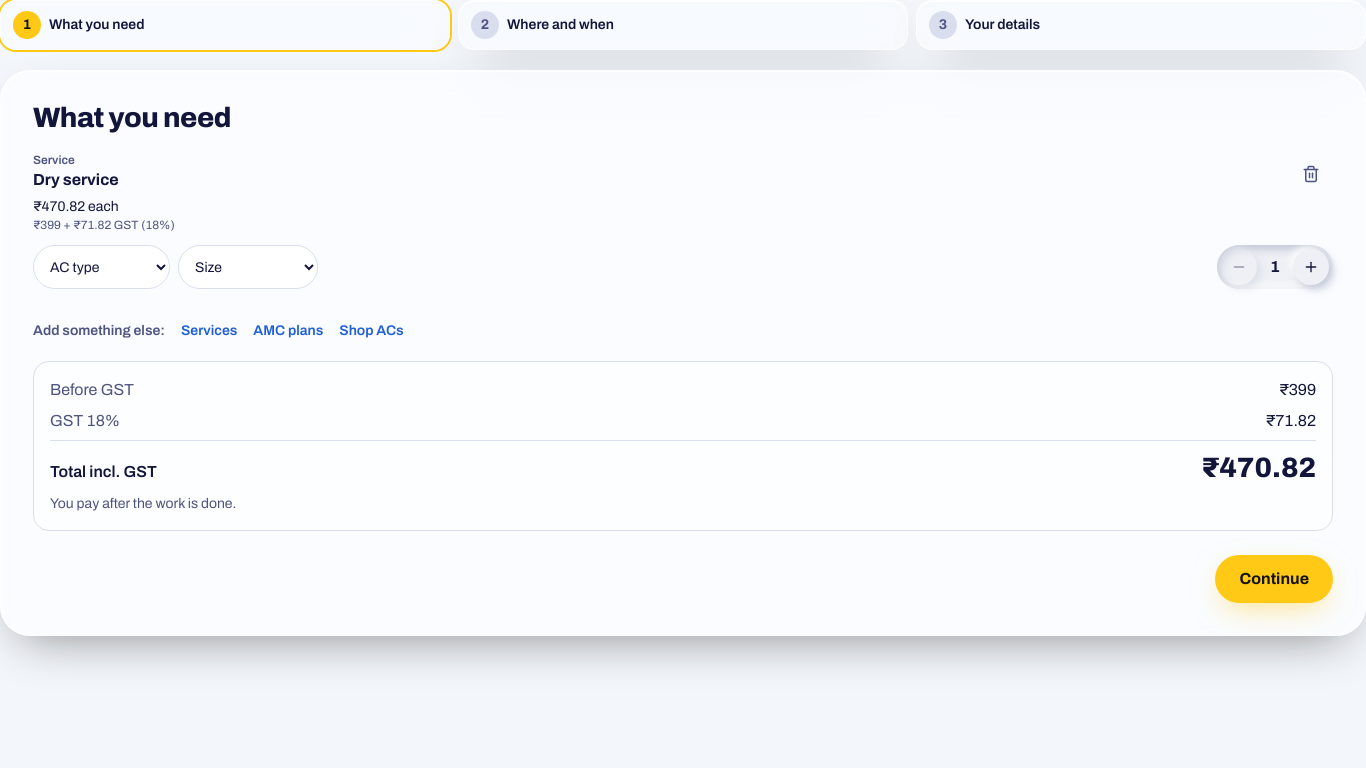
Test case: BookFlow note pre-fill from the customer account (S11b) › keeps the note for this tab, so it survives going to add a service
The width and height of the screenshot is (1366, 768).
Click the button "Continue" at (1274, 579), box [1216,555,1333,603]
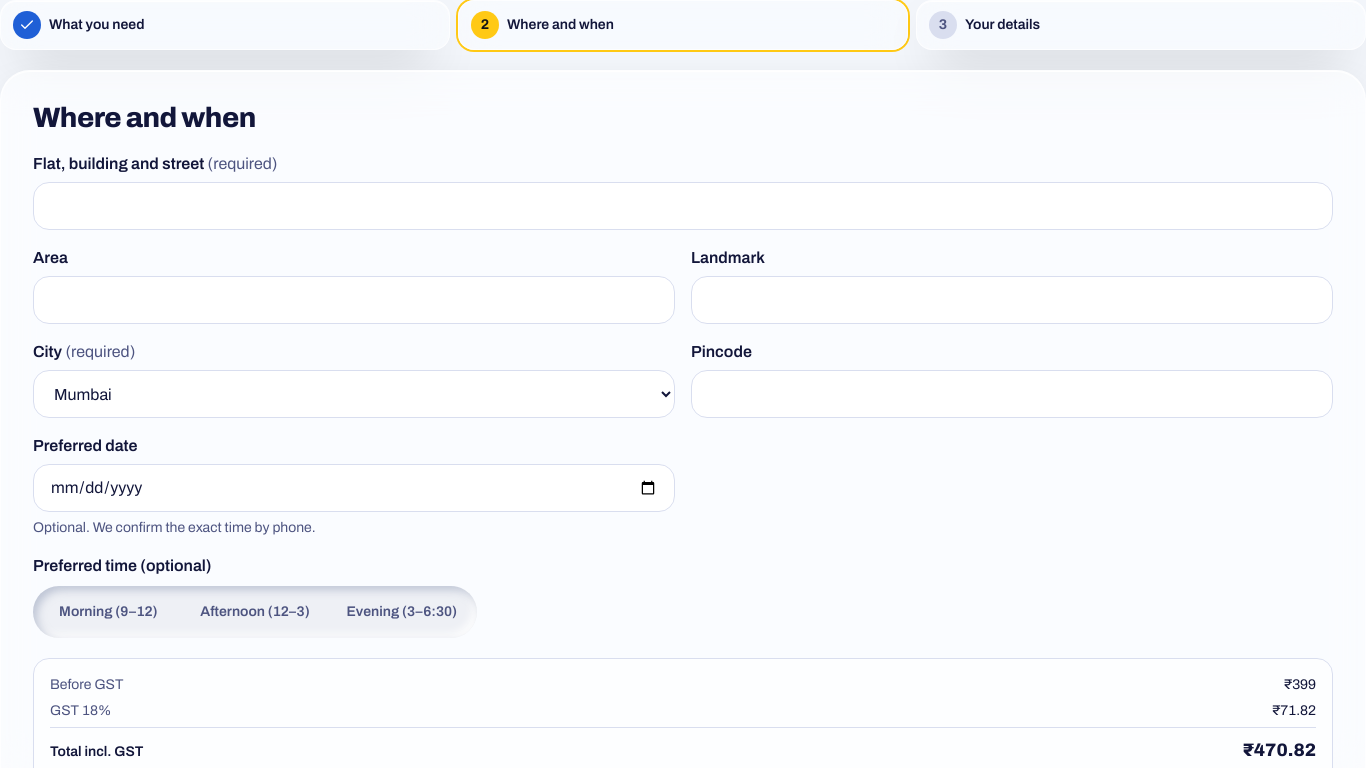
Type "12 Sea View, Chembur" into the field labelled "Flat, building and street (required)" at (683, 206), box [33,182,1333,230]
(page scrolled)
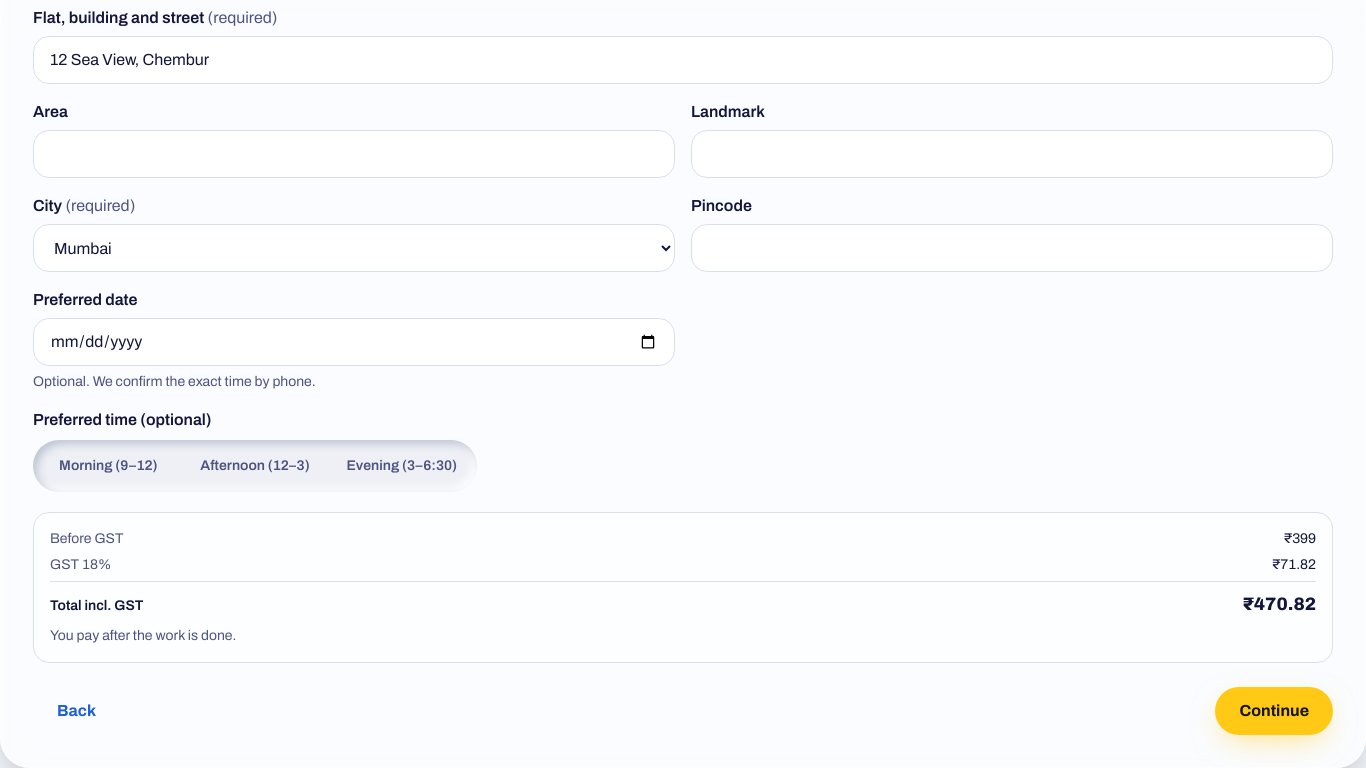
Click the button "Continue" at (1274, 711), box [1216,687,1333,735]
(page scrolled)
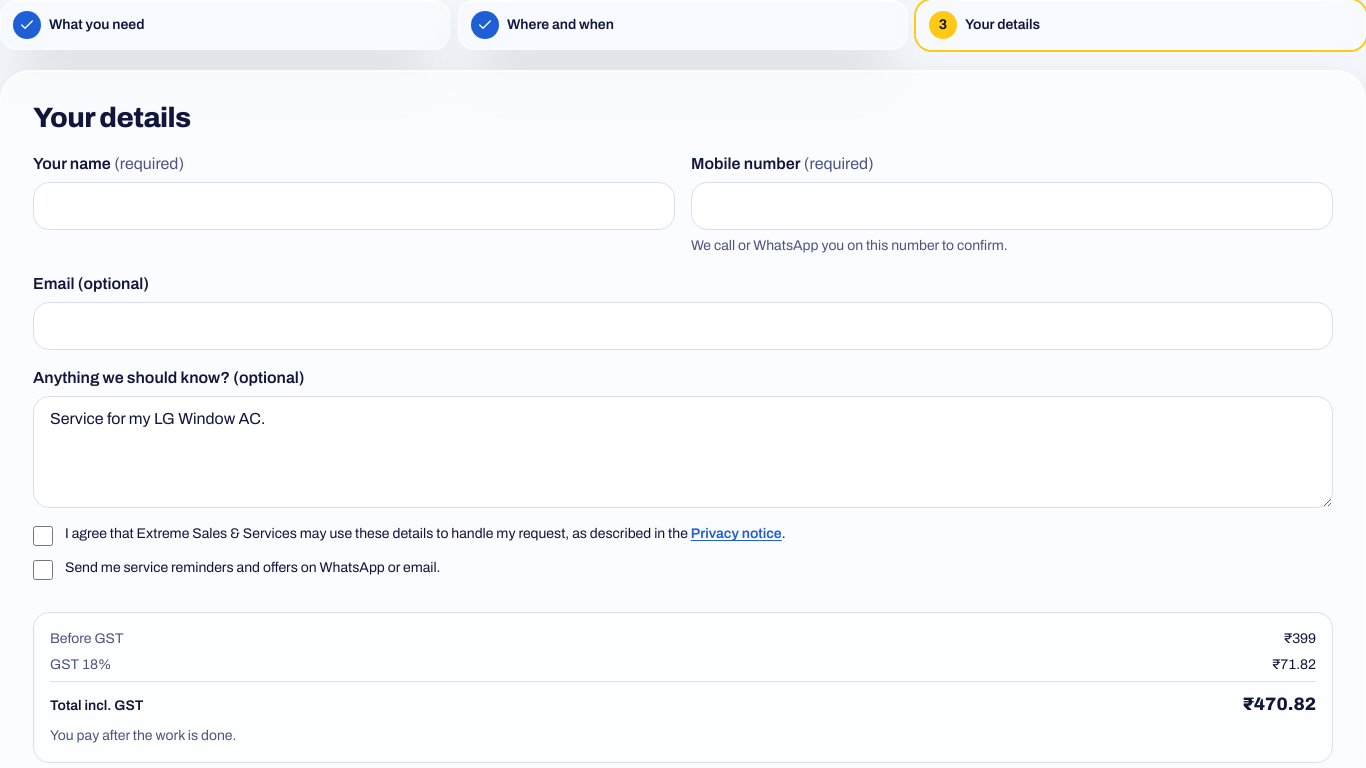
Expected: the text box labelled "Anything we should know? (optional)" holds "Service for my LG Window AC.", [33,396,1333,508]
